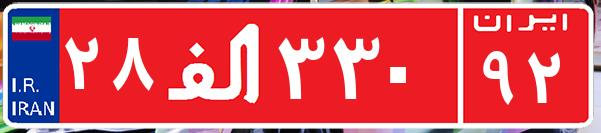0: (385, 28, 445, 110)
2: (57, 26, 110, 107), (525, 38, 570, 115)
3: (273, 28, 330, 110), (330, 28, 385, 110)
8: (110, 28, 158, 105)
9: (475, 38, 525, 113)
الف: (158, 15, 273, 115)
